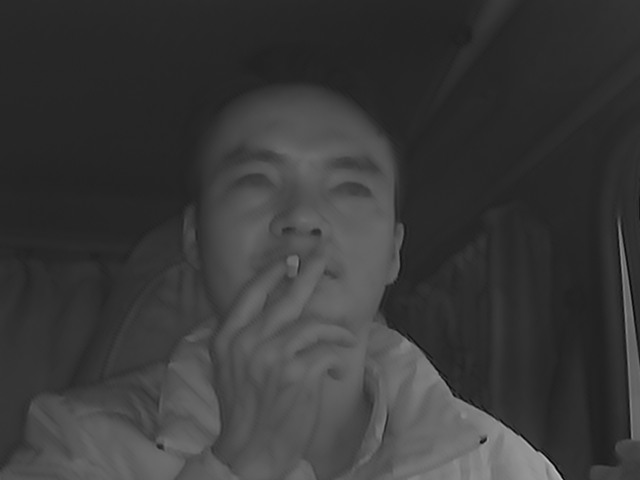hand: (225, 252, 352, 410)
